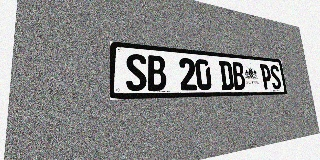0: (195, 59, 212, 90)
2: (179, 57, 197, 90)
B: (146, 55, 167, 91), (231, 62, 246, 90)
D: (218, 61, 234, 90)
P: (260, 64, 273, 89)
S: (125, 53, 147, 91), (269, 65, 282, 89)
